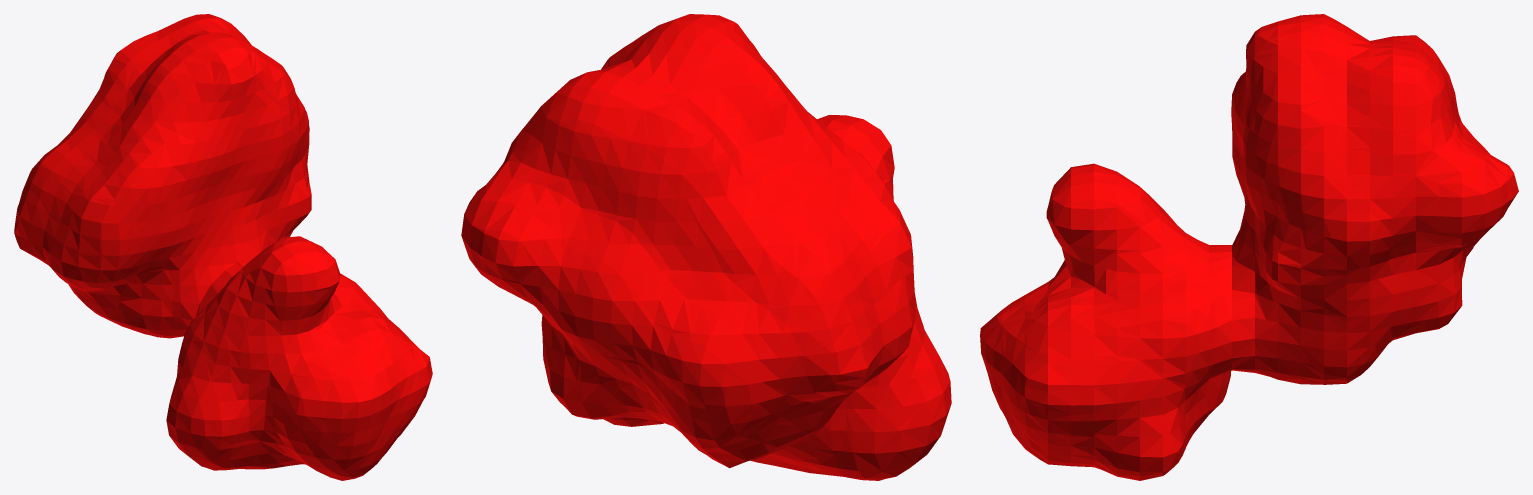
The model's file is rspR_coarse.dae.
The picture shows the model from 3 angles, left to right: view 1: azimuth 30°, elevation 25°; view 2: azimuth 150°, elevation 25°; view 3: azimuth 270°, elevation 25°; orthographic projection. The views are drawn at different scales.
Parts seen in each view (by area): view 1: rspR; view 2: rspR; view 3: rspR.
Boxes of the visible parts, box(x1,y1,x2,y2) form: rspR: box(14, 14, 432, 480); rspR: box(461, 14, 951, 480); rspR: box(980, 14, 1518, 480).
Size of the model in its own units: 42.51 by 55.49 by 62.45.
